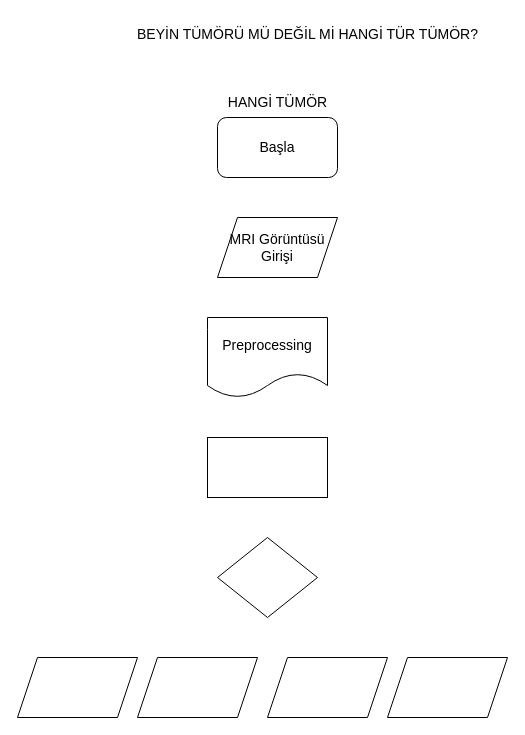
This 525x735 diagram has some shape labels left out. The shapes that lost their labels are listed below. From the top down, each one's box as (x1, y1, x2, y2) in pixels, then its label:
(206, 436, 328, 498): Model Tahminlemesi
(216, 536, 318, 618): Hangi Tümör
